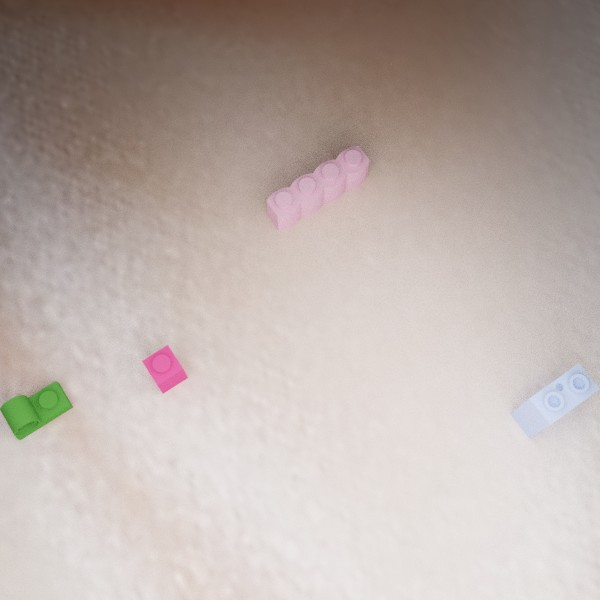lego: (266, 146, 369, 230), (510, 363, 600, 438), (0, 380, 73, 440), (141, 344, 188, 393)
